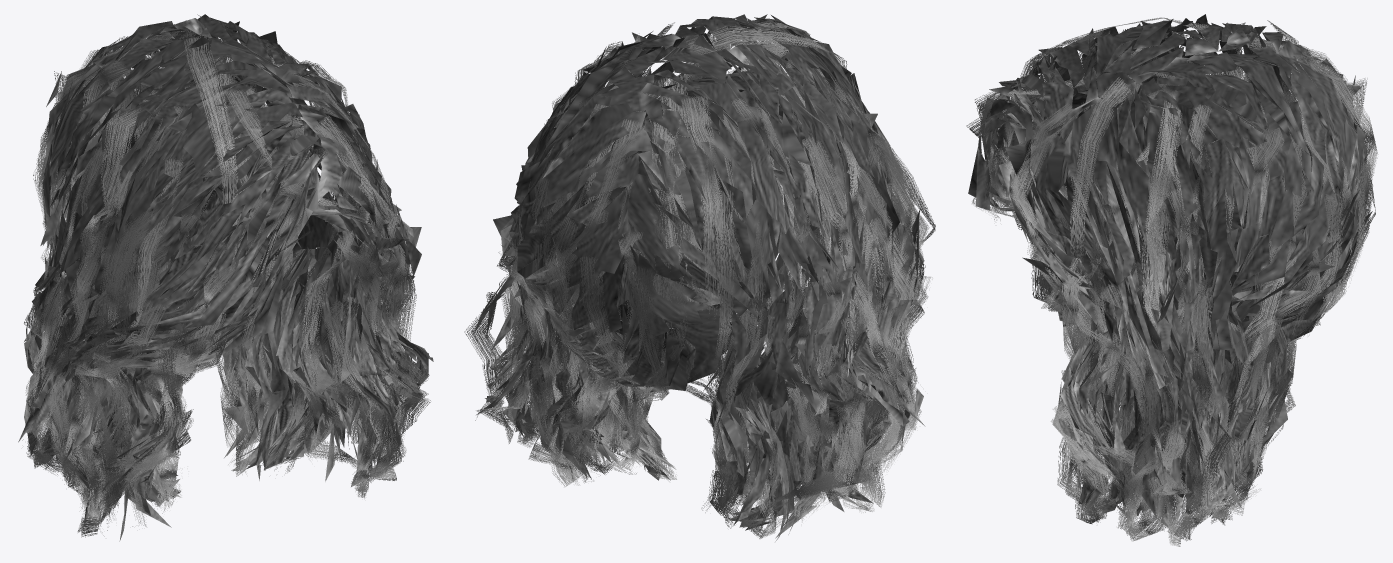
Rendered from hair_waves.glb.
3 views of the same model, side by side, from view 1: azimuth 30°, elevation 25°; view 2: azimuth 150°, elevation 25°; view 3: azimuth 270°, elevation 25° (orthographic). The views are drawn at different scales.
Parts seen in each view (by area): view 1: Mesh_0, haircards; view 2: Mesh_0, haircards; view 3: Mesh_0, haircards.
Part boxes in pixels (<box>): Mesh_0: <box>18,14,433,541</box>; haircards: <box>22,30,430,537</box>; Mesh_0: <box>474,14,925,541</box>; haircards: <box>464,17,935,538</box>; Mesh_0: <box>968,14,1372,535</box>; haircards: <box>966,17,1378,546</box>.
Bounding box in the file's own units: 0.2412 × 0.2593 × 0.211.
Materials: 2 (2 with a texture image).
